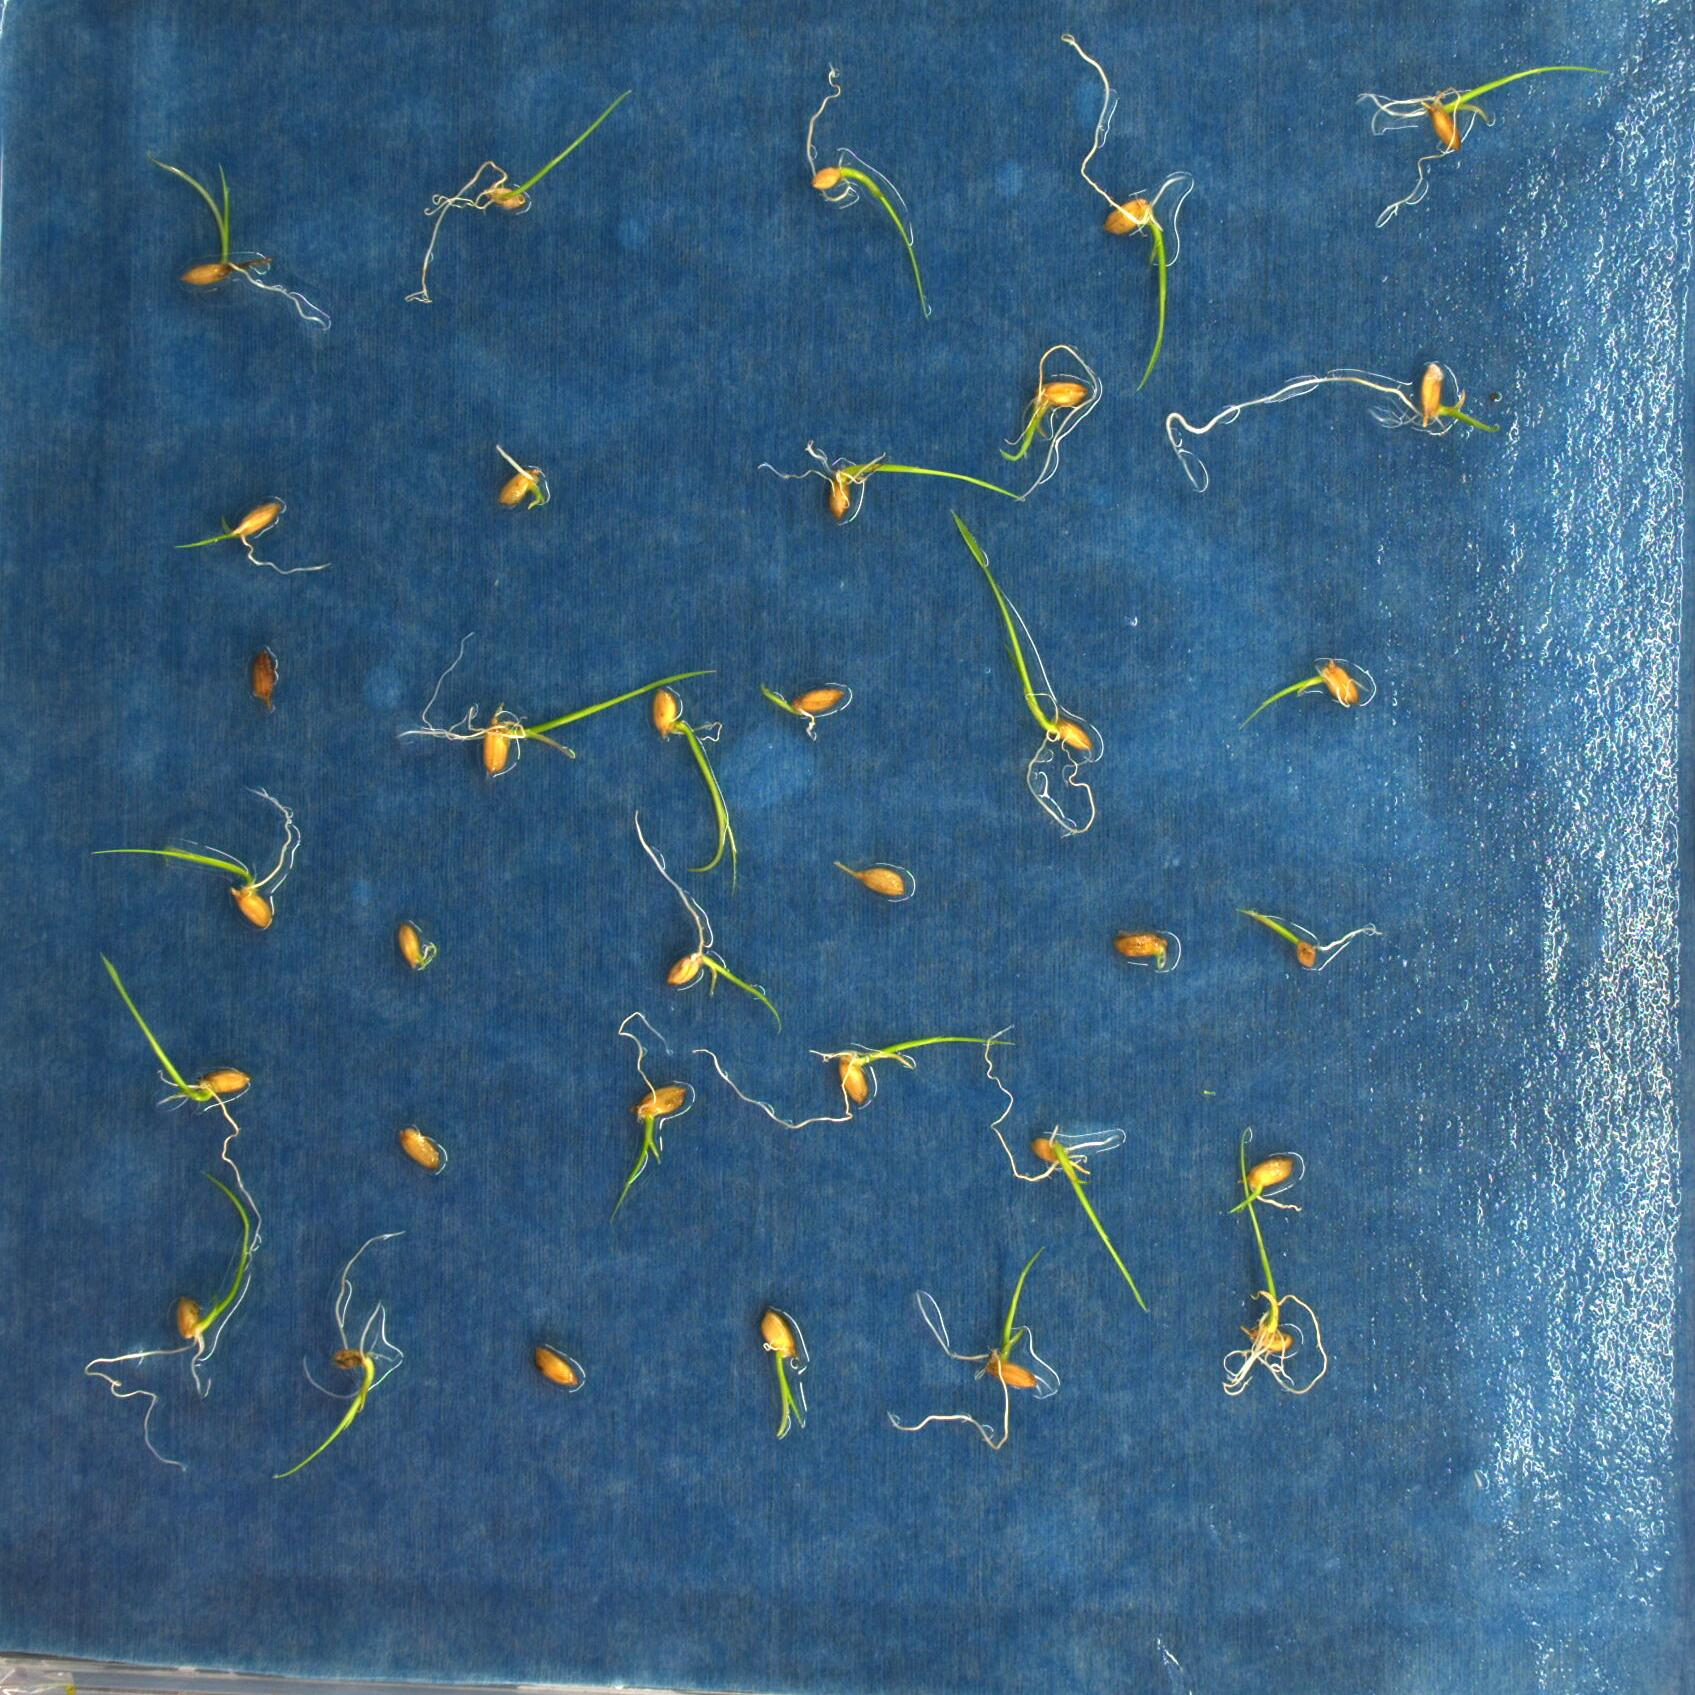not sprout: (827, 855, 906, 894), (528, 1336, 577, 1392), (394, 913, 438, 969), (1111, 930, 1167, 970), (397, 1124, 444, 1167), (253, 650, 278, 716)
sprout: (945, 506, 1104, 840), (106, 958, 267, 1270), (81, 1170, 248, 1459), (413, 87, 629, 309), (1068, 26, 1195, 396), (986, 1028, 1149, 1315), (1163, 362, 1506, 494), (405, 632, 719, 773), (1363, 64, 1608, 230), (270, 1232, 419, 1478), (882, 1243, 1059, 1450), (629, 809, 785, 1026), (802, 67, 933, 315), (1218, 1124, 1333, 1402), (154, 149, 324, 331), (692, 1034, 1017, 1127), (96, 782, 295, 924), (753, 442, 1028, 526), (613, 1007, 692, 1237), (650, 695, 744, 880), (1003, 340, 1104, 506), (172, 492, 328, 573), (1237, 660, 1375, 733), (1239, 906, 1381, 969), (754, 1312, 809, 1442), (754, 683, 854, 737), (486, 442, 554, 509), (1225, 1161, 1301, 1218)
